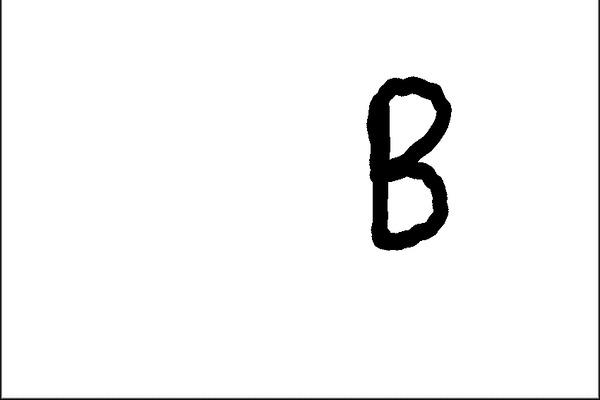B: (362, 69, 457, 254)
